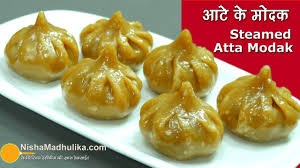modak: (136, 84, 230, 167), (60, 42, 148, 126), (1, 9, 84, 86), (221, 64, 300, 142), (146, 20, 217, 98), (81, 11, 156, 65)
